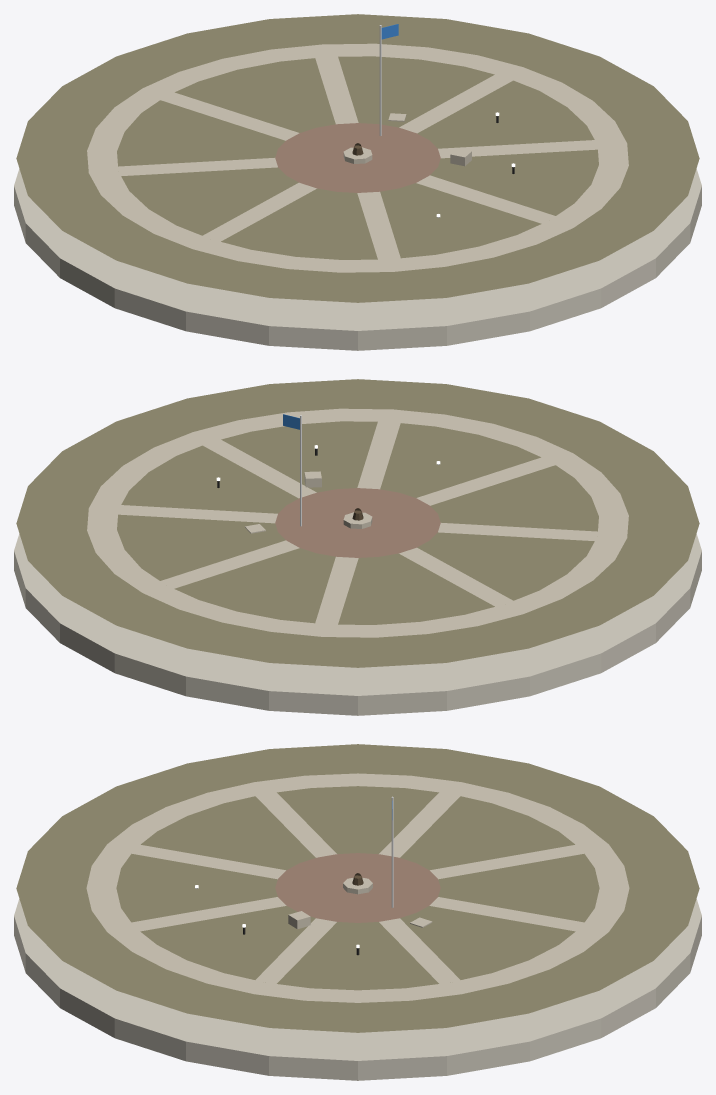
The model's file is rb_plazacultura.glb.
3 renders of one model, top to bottom at view 1: azimuth 30°, elevation 25°; view 2: azimuth 150°, elevation 25°; view 3: azimuth 270°, elevation 25°, orthographic.
Visible parts, largest first — view 1: rb_plazacultura_lod0; view 2: rb_plazacultura_lod0; view 3: rb_plazacultura_lod0.
Part boxes in pixels (x1,y1,x2,y2): rb_plazacultura_lod0: (14, 14, 701, 350); rb_plazacultura_lod0: (14, 379, 701, 715); rb_plazacultura_lod0: (14, 744, 701, 1080).
Size of what is drawn, in the model's own units: 59.8 by 15.13 by 59.8.
